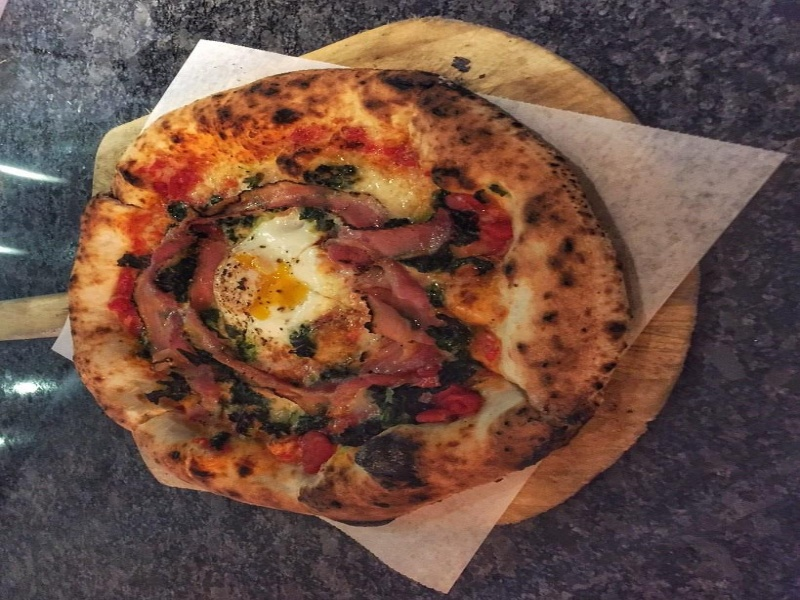oeuf: (216, 249, 324, 325)
